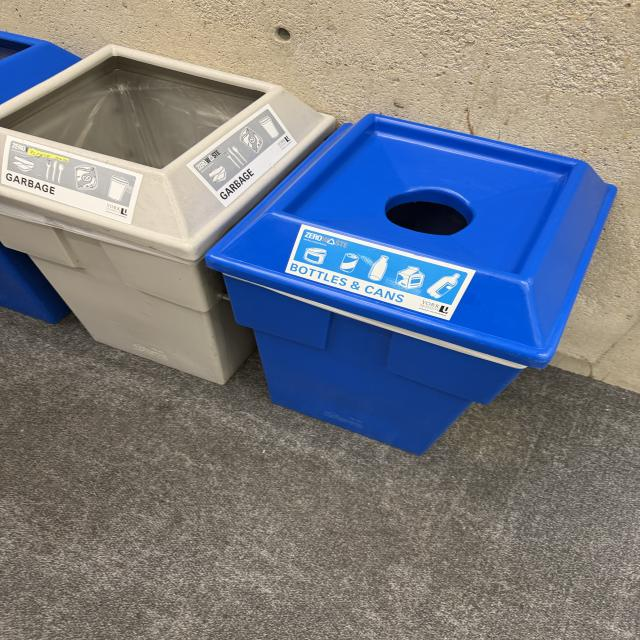Dustbin: (0, 27, 621, 459)
